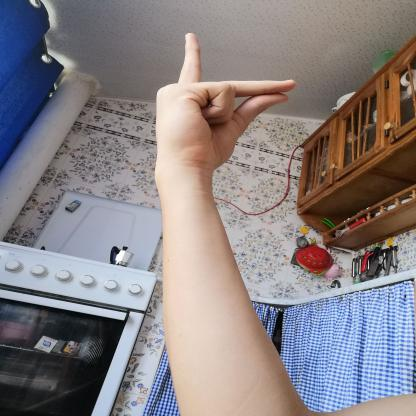TAA: (143, 26, 308, 182)
